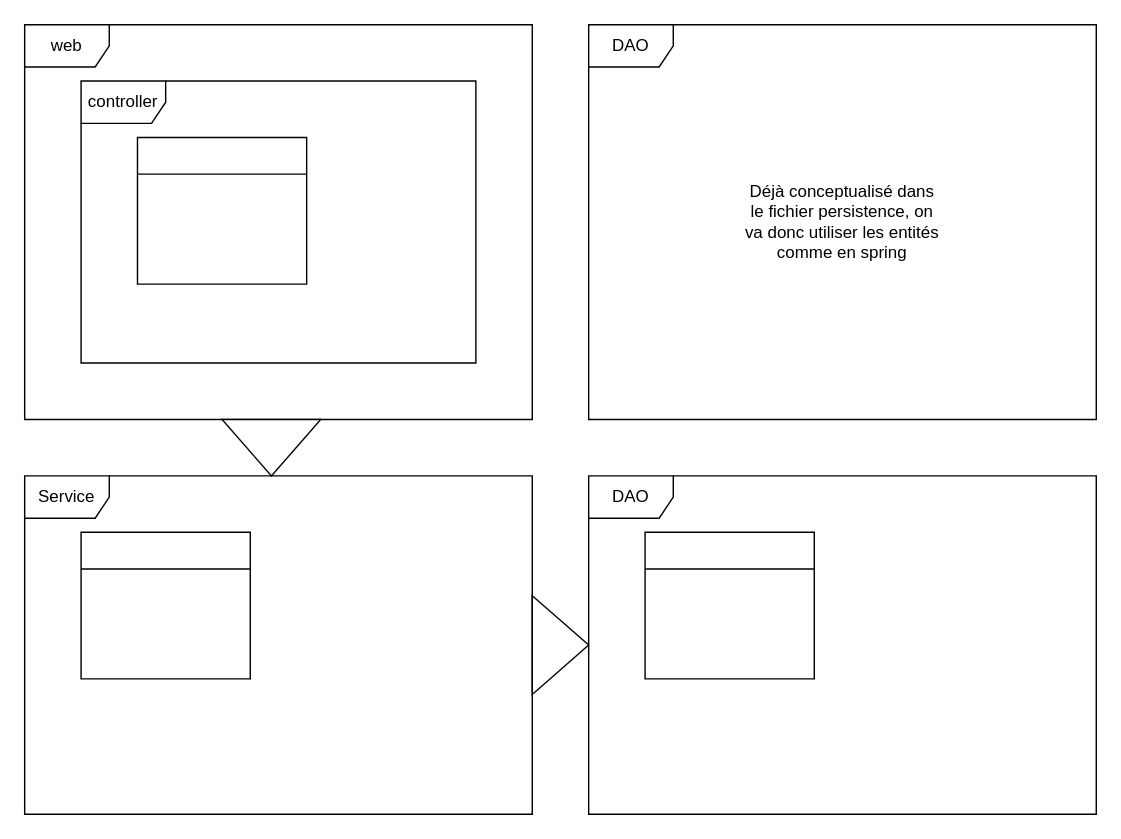
This 1121x839 diagram has some shape labels left out. The shapes that lost their labels are listed below. From the top down, each one's centre as x and y in pixels, then its label:
At point 221,210: "ArticleController".
At point 165,605: "ArticleService".
At point 729,605: "ArticleRepository".
